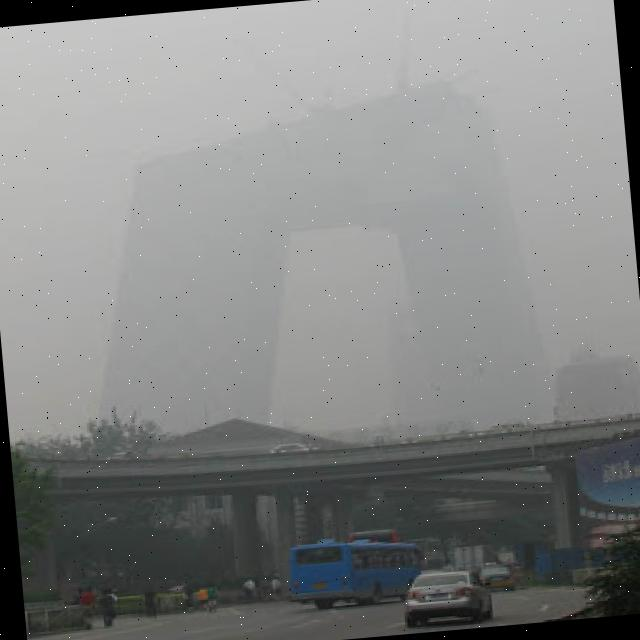car: (403, 568, 495, 628), (476, 560, 516, 587)
truck: (286, 528, 428, 610)
